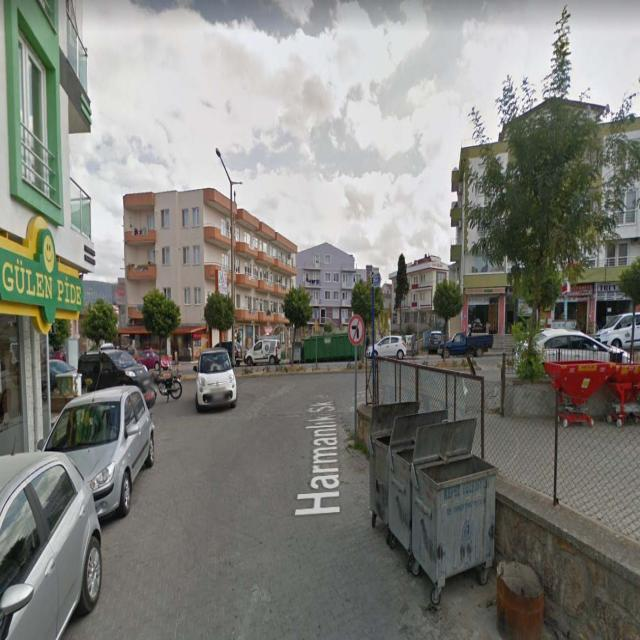soladonulmez: (346, 314, 364, 345)
